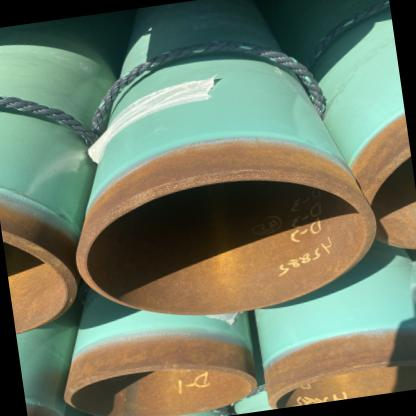clean: (202, 157, 244, 200)
